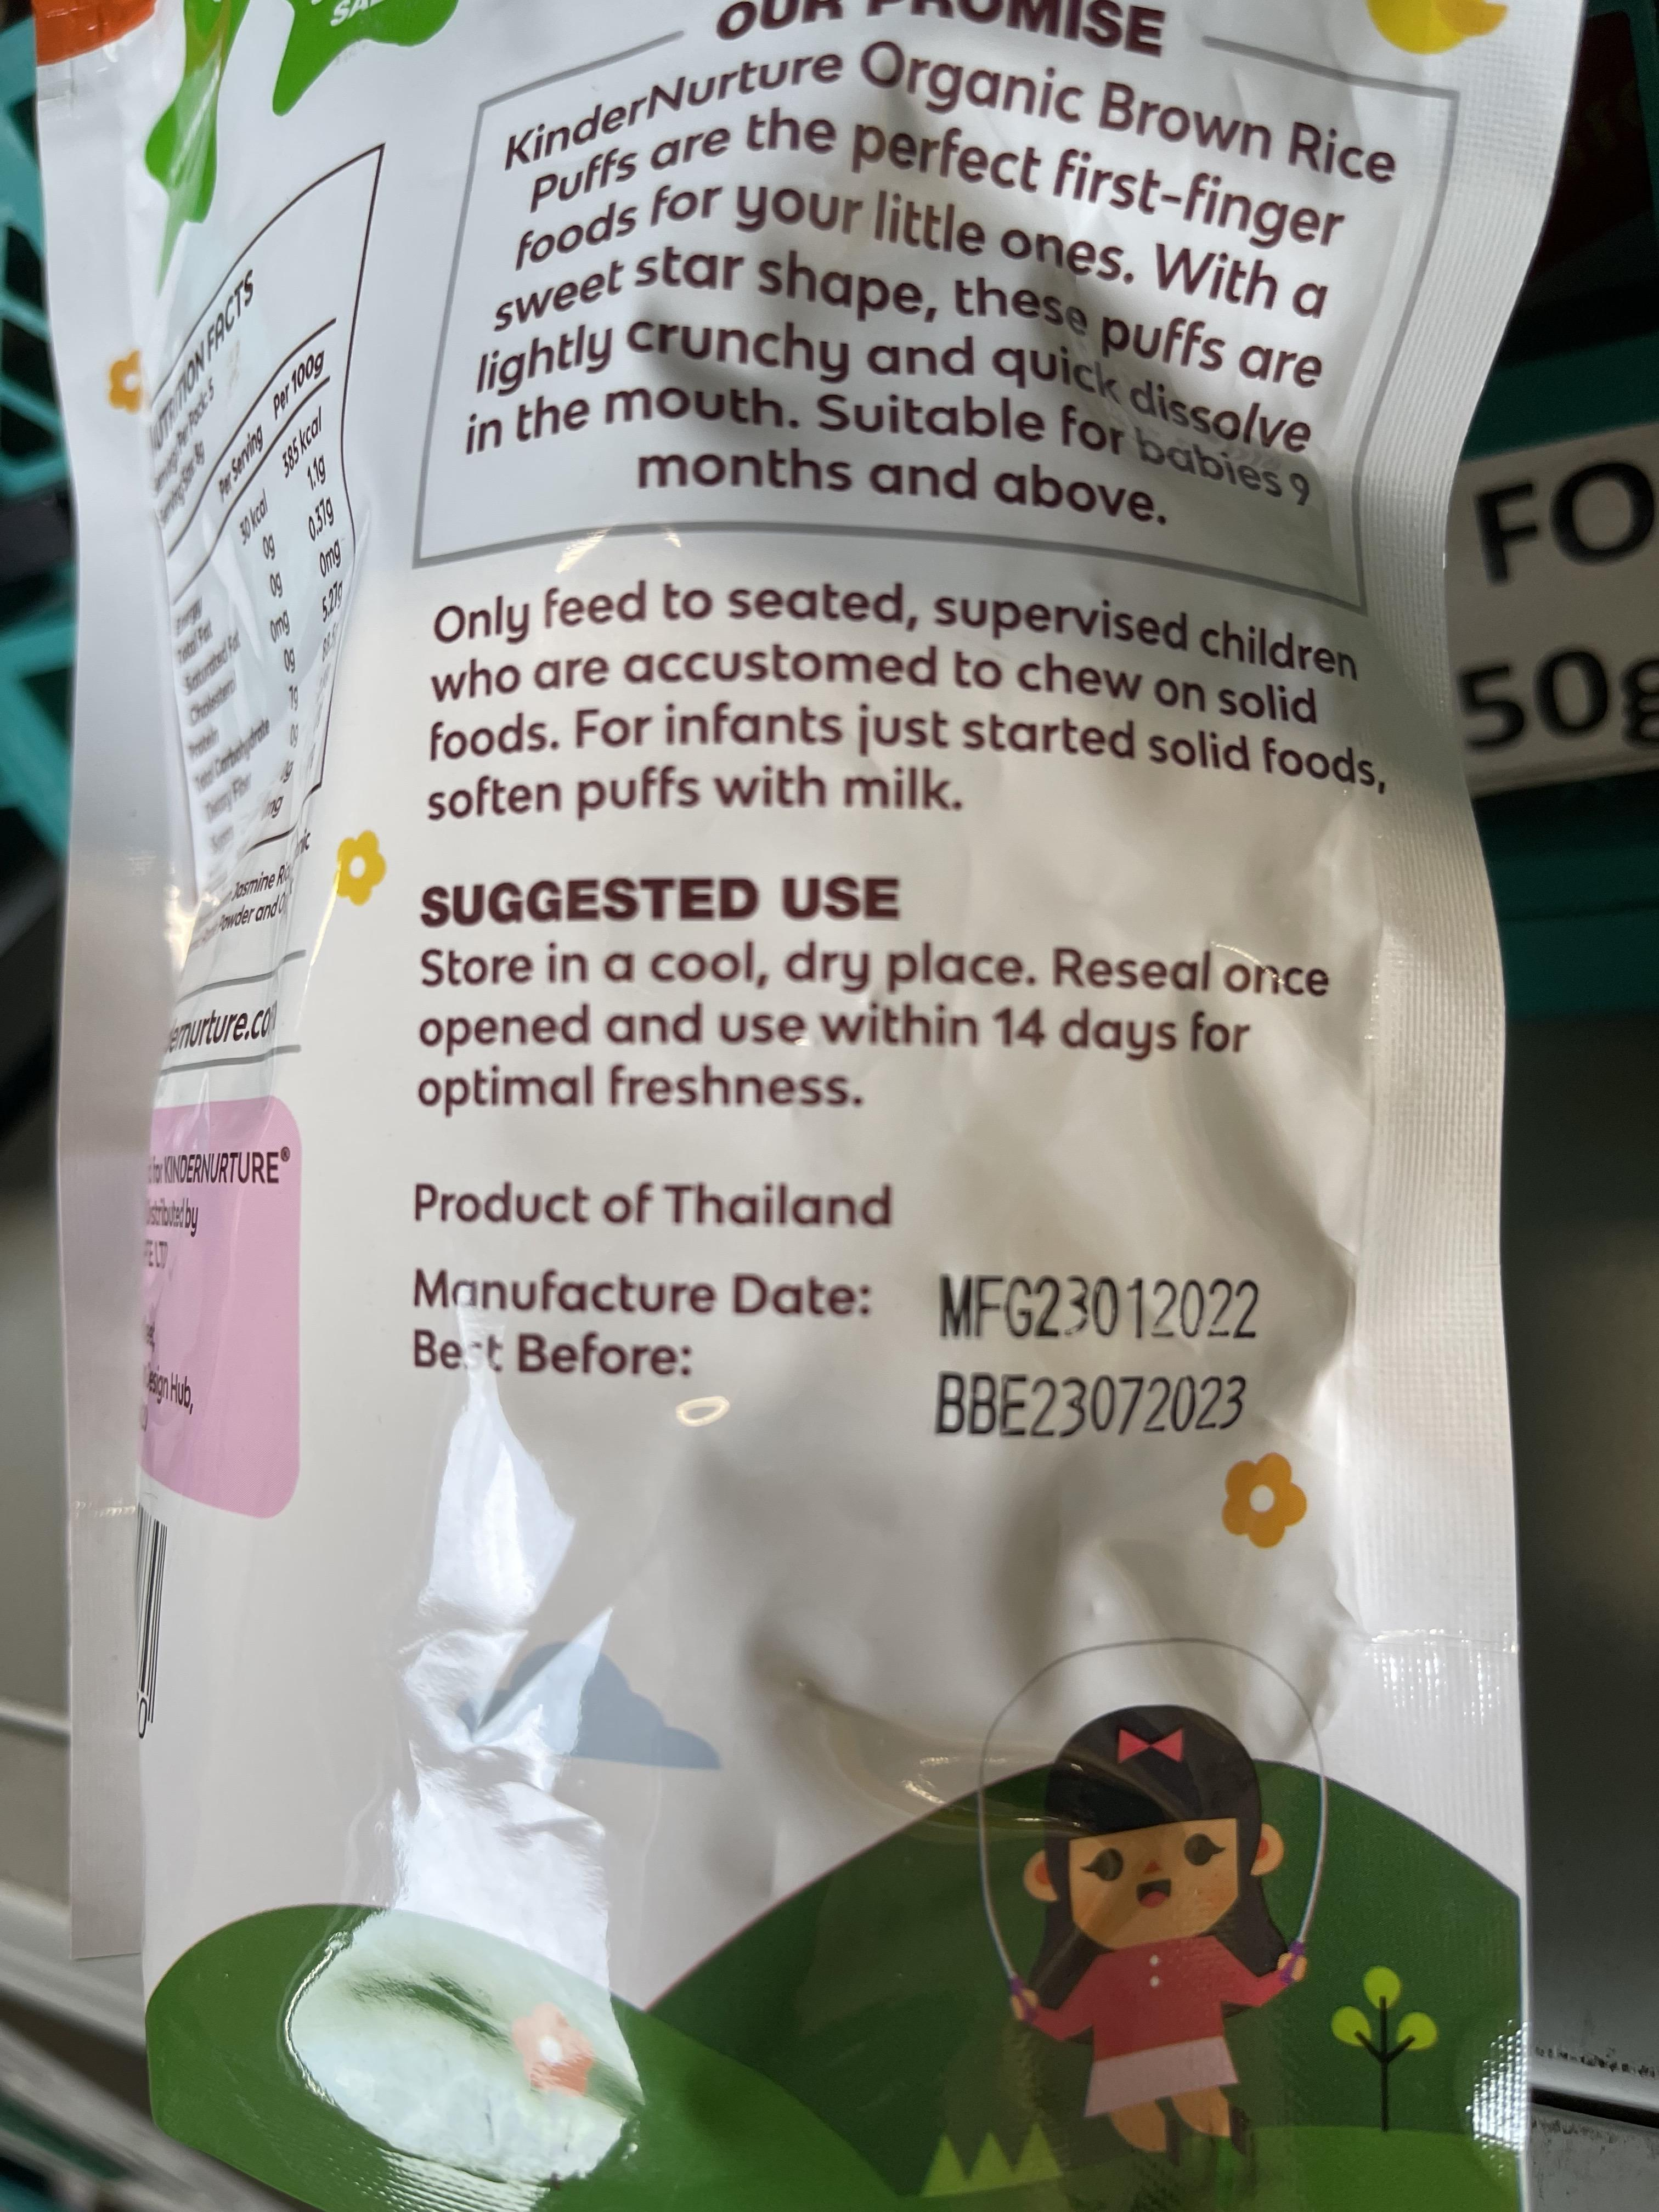object_name: (23, 0, 1542, 2212)
